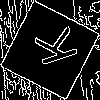K: (25, 25, 79, 71)
